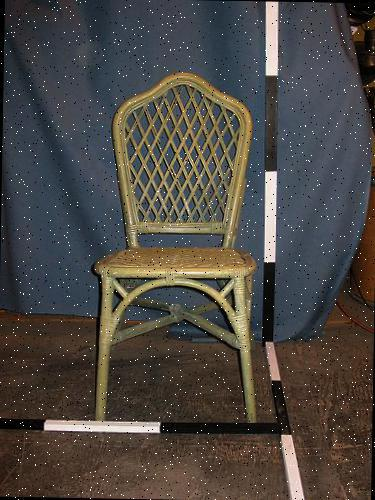Silla: (92, 78, 259, 422)
